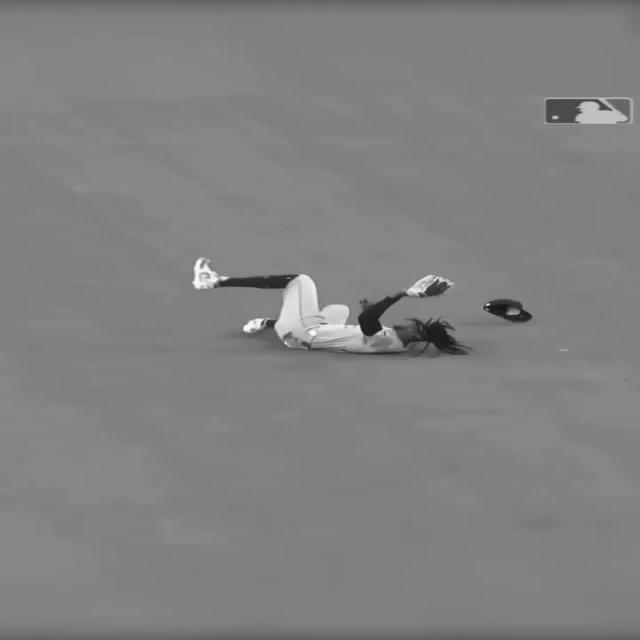baseball_glove: (401, 276, 455, 298)
shoe: (192, 256, 222, 290), (246, 316, 270, 333)
